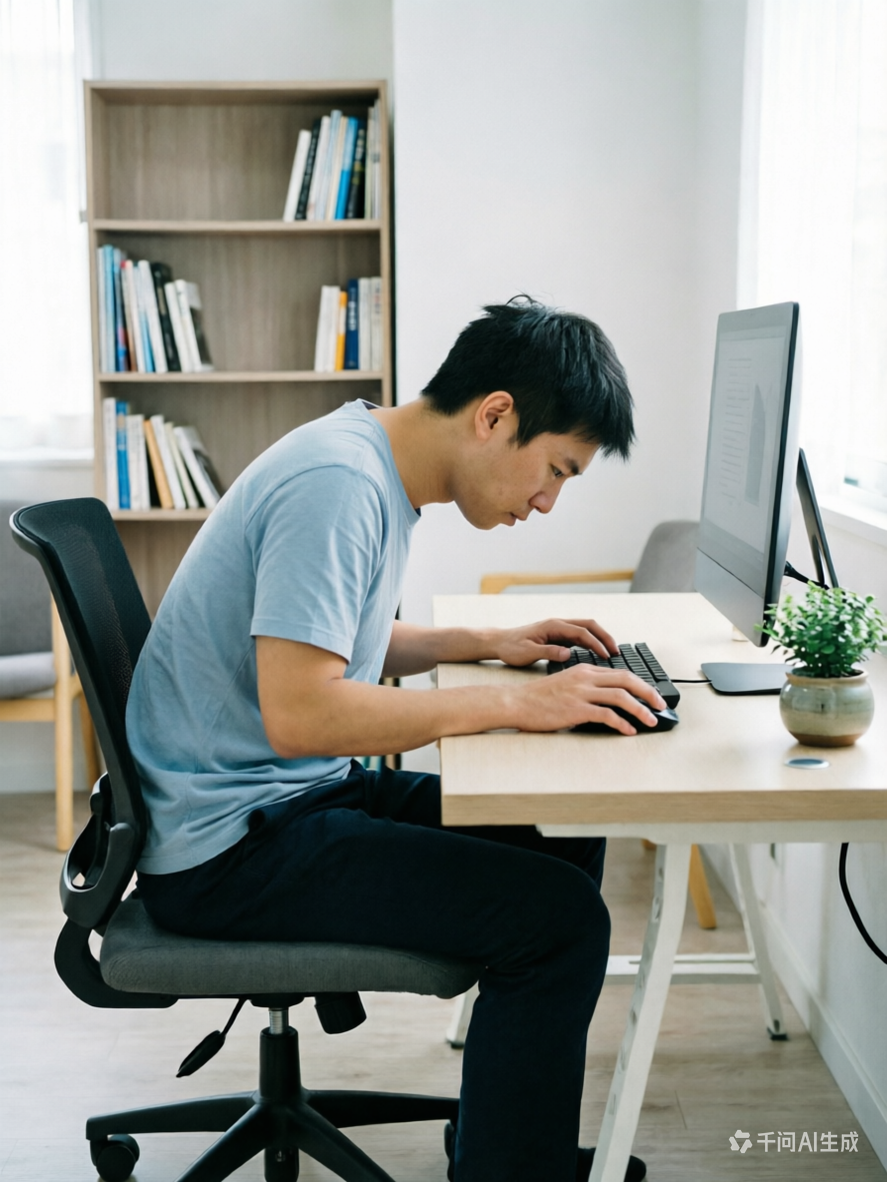sitting_bad: (114, 298, 658, 1164)
